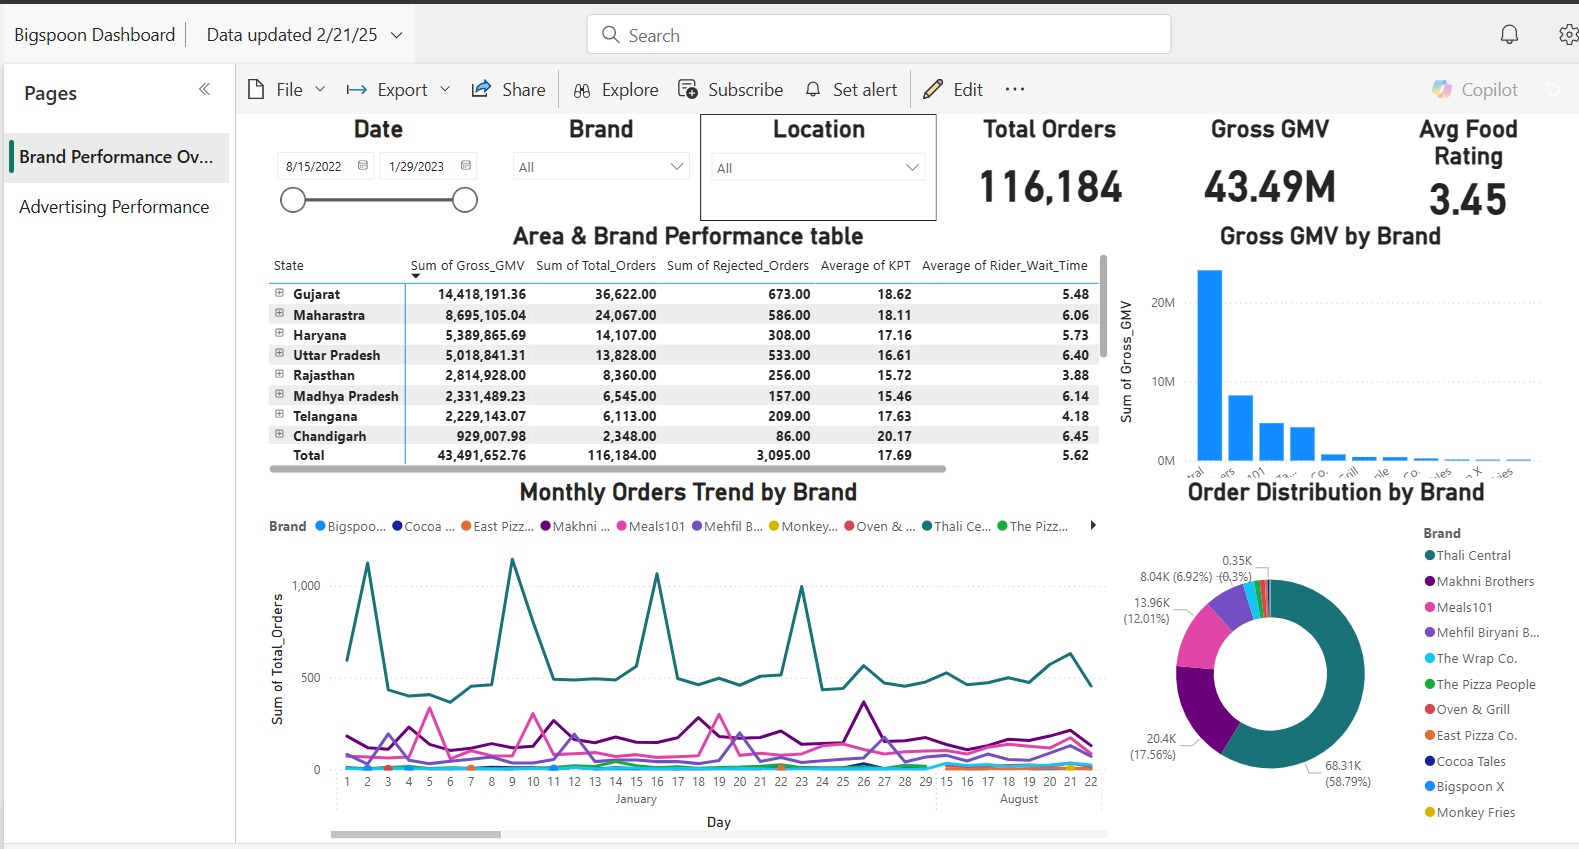

This screenshot's page, from the dashboard's own definition file:
{"tool":"powerbi","page":{"name":"Brand Performance Overview","canvas":[1280,720],"ordinal":0},"visuals":[{"type":"slicer","title":"Date","fields":{"Values":["data6000 zomato_op_matrix.Dates"]},"box":[0,0,226.4,105.7],"z":0},{"type":"slicer","title":"Brand","fields":{"Values":["data6000 zomato_op_matrix.Brand"]},"box":[236,0,194.9,105.7],"z":1000},{"type":"slicer","title":"Location","fields":{"Values":["data6000 zomato_op_matrix.State","data6000 zomato_op_matrix.City","data6000 zomato_op_matrix.Area"]},"box":[430.9,0,233.3,105.7],"z":2000},{"type":"card","title":"Total Orders","fields":{"Values":["Sum(data6000 zomato_op_matrix.Total_Orders)"]},"box":[664.2,0,223.7,105.7],"z":3000},{"type":"card","title":"Gross GMV","fields":{"Values":["Sum(data6000 zomato_op_matrix.Gross_GMV)"]},"box":[887.8,0,212.7,105.7],"z":4000},{"type":"card","title":"Avg Food Rating","fields":{"Values":["Avg(data6000 zomato_op_matrix.Food_Ratings)"]},"box":[1100.5,0,179.8,105.7],"z":5000},{"type":"lineChart","title":"Monthly Orders Trend by Brand","fields":{"Y":["Sum(data6000 zomato_op_matrix.Total_Orders)"],"Series":["data6000 zomato_op_matrix.Brand"],"Category":["data6000 zomato_op_matrix.Dates.Variation.Date Hierarchy.Month","data6000 zomato_op_matrix.Dates.Variation.Date Hierarchy.Day"]},"box":[0,359.5,838.4,360.9],"z":6000},{"type":"clusteredColumnChart","title":"Gross GMV by Brand","fields":{"Category":["data6000 zomato_op_matrix.Brand"],"Y":["Sum(data6000 zomato_op_matrix.Gross_GMV)"]},"box":[838.4,105.7,430.9,347.2],"z":7000},{"type":"donutChart","title":"Order Distribution by Brand","fields":{"Category":["data6000 zomato_op_matrix.Brand"],"Y":["Sum(data6000 zomato_op_matrix.Total_Orders)"]},"box":[838.4,359.5,441.9,360.9],"z":8000},{"type":"pivotTable","title":"Area & Brand Performance table","fields":{"Values":["Sum(data6000 zomato_op_matrix.Gross_GMV)","Sum(data6000 zomato_op_matrix.Total_Orders)","Sum(data6000 zomato_op_matrix.Rejected_Orders)","Avg(data6000 zomato_op_matrix.KPT)","Avg(data6000 zomato_op_matrix.Rider_Wait_Time)","Avg(data6000 zomato_op_matrix.Food_Ratings)"],"Rows":["data6000 zomato_op_matrix.State","data6000 zomato_op_matrix.City","data6000 zomato_op_matrix.Area","data6000 zomato_op_matrix.Brand"]},"box":[0,105.7,838.4,253.9],"z":9000}]}

Visuals, with their boxes on the page's 1280x720 design canvas (x1, y1, x2, y2). These are canvas units, not pixel positions in the 1579x849 screenshot, which may show the page scaled, cropped or inside an application window:
"Date" slicer: left=0, top=0, right=226, bottom=106
"Brand" slicer: left=236, top=0, right=431, bottom=106
"Location" slicer: left=431, top=0, right=664, bottom=106
"Total Orders" card: left=664, top=0, right=888, bottom=106
"Gross GMV" card: left=888, top=0, right=1100, bottom=106
"Avg Food Rating" card: left=1100, top=0, right=1280, bottom=106
"Monthly Orders Trend by Brand" lineChart: left=0, top=360, right=838, bottom=720
"Gross GMV by Brand" clusteredColumnChart: left=838, top=106, right=1269, bottom=453
"Order Distribution by Brand" donutChart: left=838, top=360, right=1280, bottom=720
"Area & Brand Performance table" pivotTable: left=0, top=106, right=838, bottom=360
